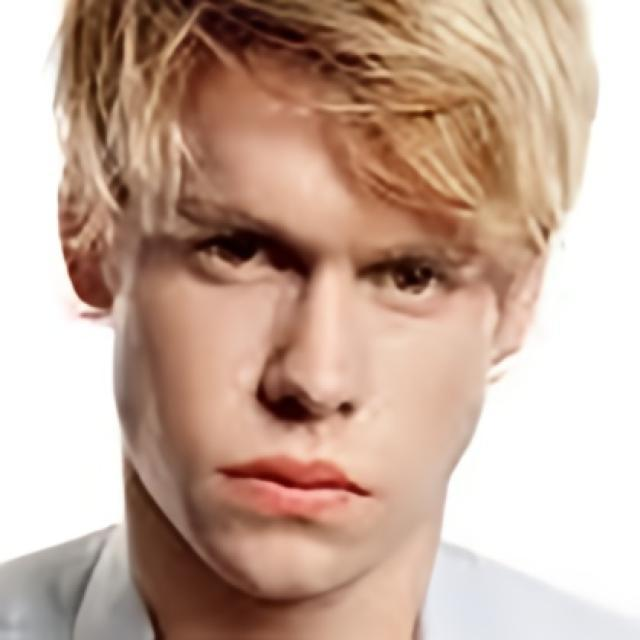anger: (136, 42, 493, 598)
